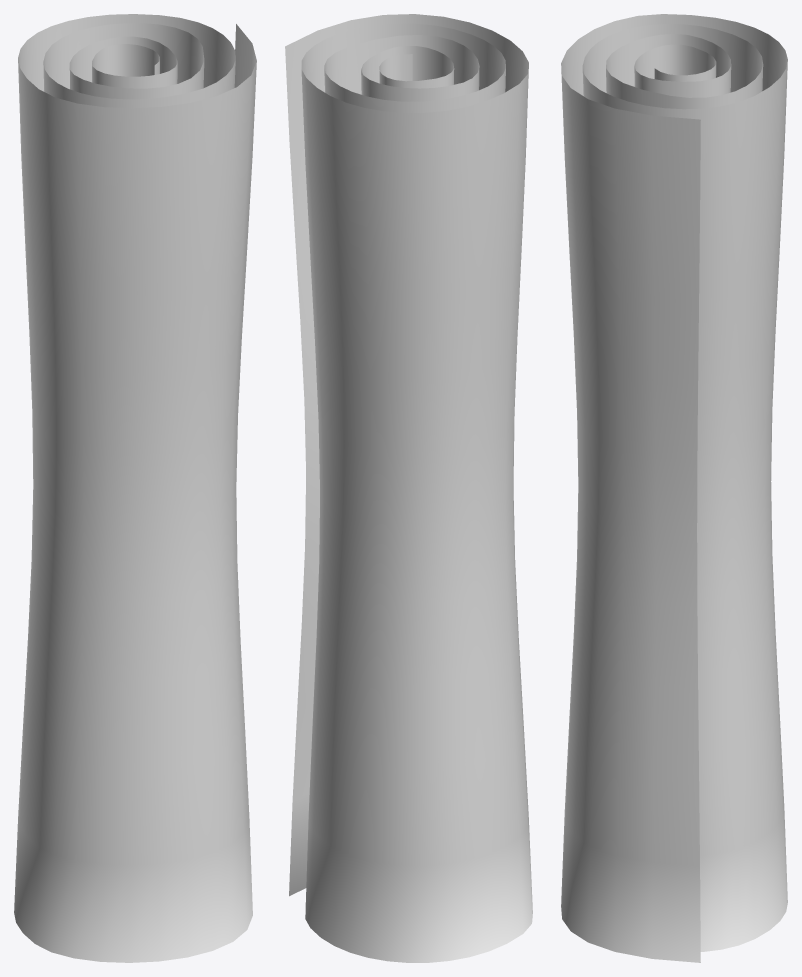
The model's file is Soap Animation .fbx.
3 renders of one model, left to right at view 1: azimuth 30°, elevation 25°; view 2: azimuth 150°, elevation 25°; view 3: azimuth 270°, elevation 25°, orthographic.
Visible parts, largest first — view 1: soap.004; view 2: soap.004; view 3: soap.004.
Boxes of the visible parts, x1,y1,x2,y2 form: soap.004: [14, 14, 256, 962]; soap.004: [285, 14, 532, 962]; soap.004: [561, 14, 787, 962].
Size of the model in its own units: 132 by 490 by 119.
1 material, 1 textured.
